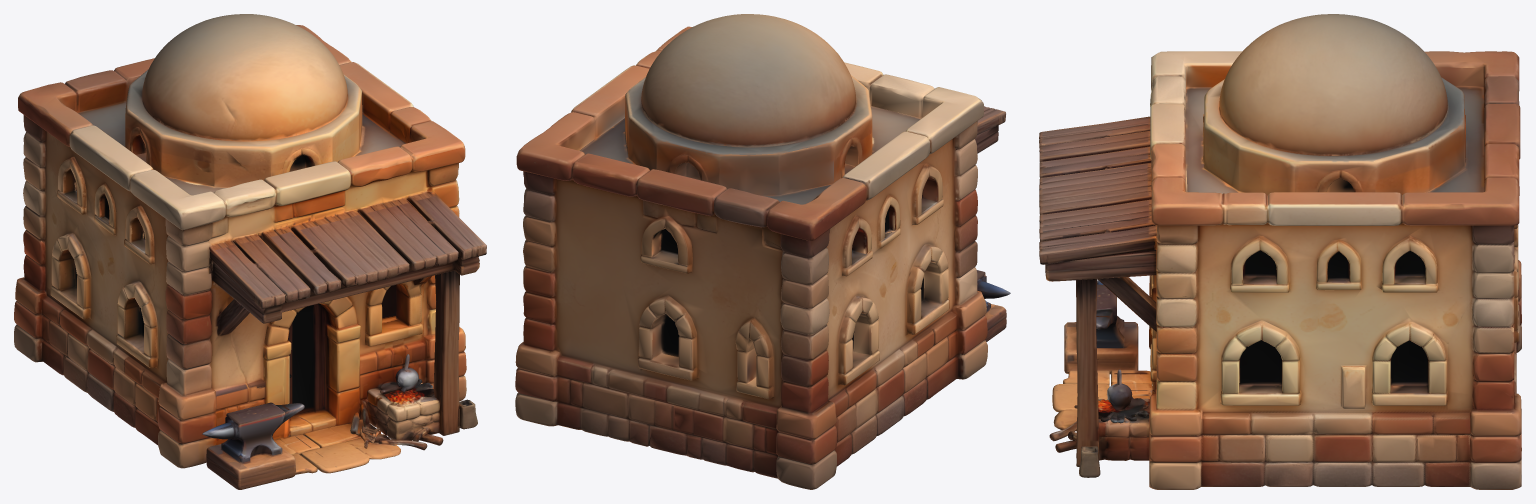
Rendered from arabian_blacksmith.glb.
3 views of the same model, side by side, from view 1: azimuth 30°, elevation 25°; view 2: azimuth 150°, elevation 25°; view 3: azimuth 270°, elevation 25° (orthographic). The views are drawn at different scales.
Visible parts, largest first — view 1: node_0; view 2: node_0; view 3: node_0.
Part boxes in pixels (x1=…): node_0: x1=14, y1=14, x2=486, y2=489; node_0: x1=515, y1=14, x2=1010, y2=489; node_0: x1=1039, y1=14, x2=1521, y2=489.
Size of the model in its own units: 0.6031 by 0.6951 by 0.786.
Materials: 1 (1 with a texture image).
